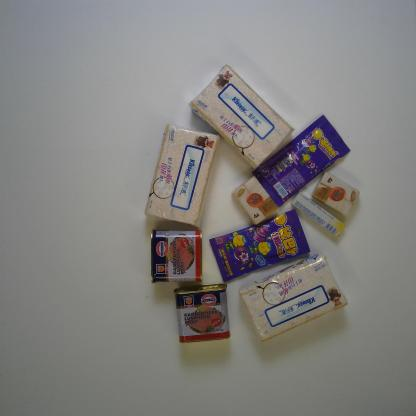Candy: (252, 114, 352, 208), (209, 208, 311, 282), (291, 190, 347, 238)
Canned Food: (173, 283, 231, 344), (150, 229, 203, 284)
Tissue: (188, 64, 294, 170), (238, 252, 349, 343), (144, 123, 221, 229), (232, 175, 280, 226), (312, 172, 360, 217)
